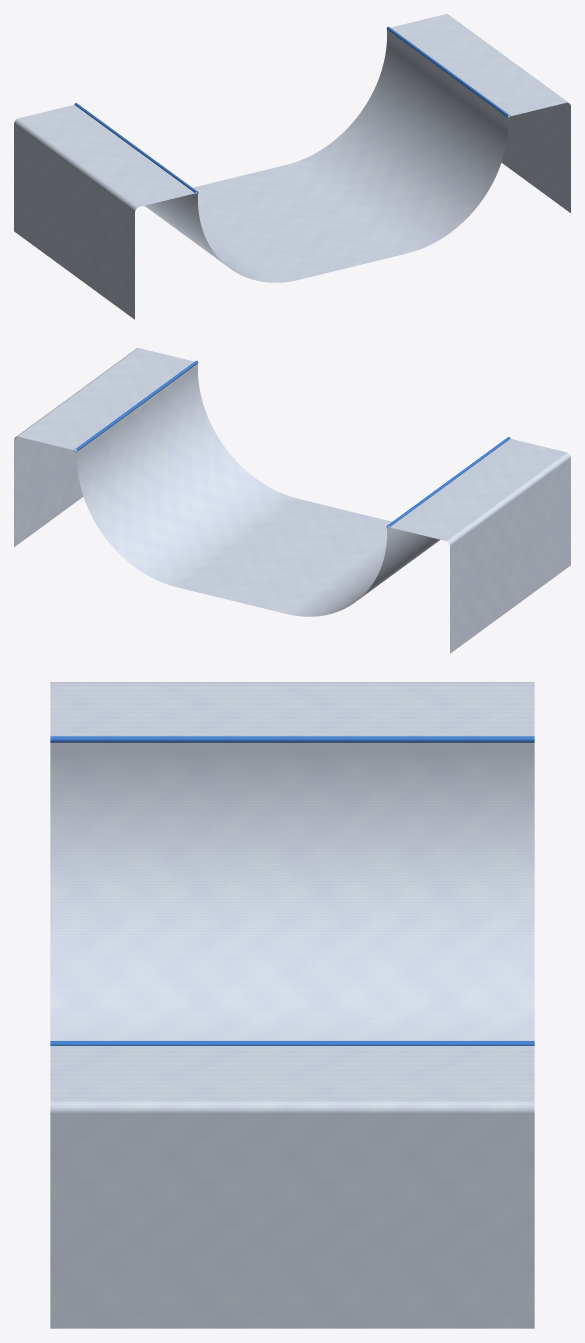
File: SM_UPipe_Section.glb
3 renders of one model, top to bottom at view 1: azimuth 30°, elevation 25°; view 2: azimuth 150°, elevation 25°; view 3: azimuth 270°, elevation 25°, orthographic. The views are drawn at different scales.
Parts seen in each view (by area): view 1: SM_UPipe_Section, Coping; view 2: SM_UPipe_Section, Coping; view 3: SM_UPipe_Section, Coping.
Boxes of the visible parts, left/top/right/bottom form: SM_UPipe_Section: left=14, top=14, right=570, bottom=319; Coping: left=74, top=26, right=510, bottom=194; SM_UPipe_Section: left=14, top=348, right=570, bottom=653; Coping: left=74, top=360, right=510, bottom=528; SM_UPipe_Section: left=50, top=682, right=534, bottom=1328; Coping: left=50, top=736, right=534, bottom=1045.
Bounding box in the file's own units: 20.8 × 5.17 × 10.
2 materials, 1 textured.
